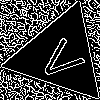V: (34, 30, 94, 86)
